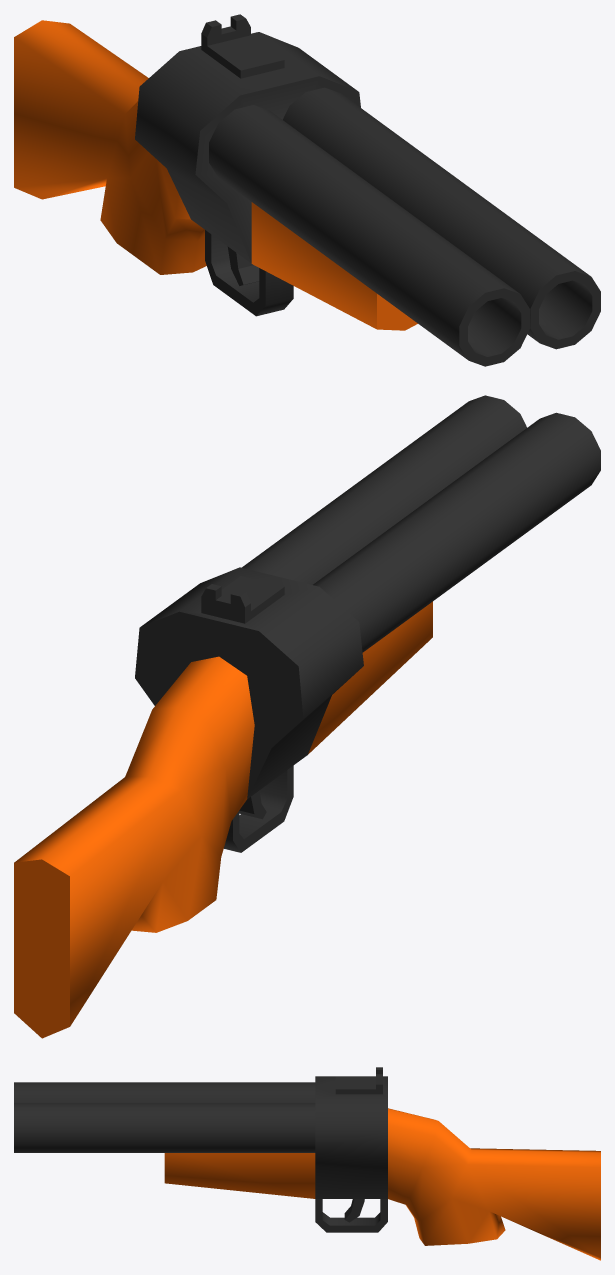
File: Gun_3_01_DBShotgun.fbx
3 views of the same model, one above another, from view 1: azimuth 30°, elevation 25°; view 2: azimuth 150°, elevation 25°; view 3: azimuth 270°, elevation 25° (orthographic). The views are drawn at different scales.
Parts seen in each view (by area): view 1: Gun_3_01_DBShotgun; view 2: Gun_3_01_DBShotgun; view 3: Gun_3_01_DBShotgun.
Part boxes in pixels (x1=…): Gun_3_01_DBShotgun: x1=14, y1=14, x2=600, y2=366; Gun_3_01_DBShotgun: x1=14, y1=395, x2=600, y2=1038; Gun_3_01_DBShotgun: x1=14, y1=1067, x2=600, y2=1260.
Bounding box in the file's own units: 0.4394 × 0.7811 × 2.2.
